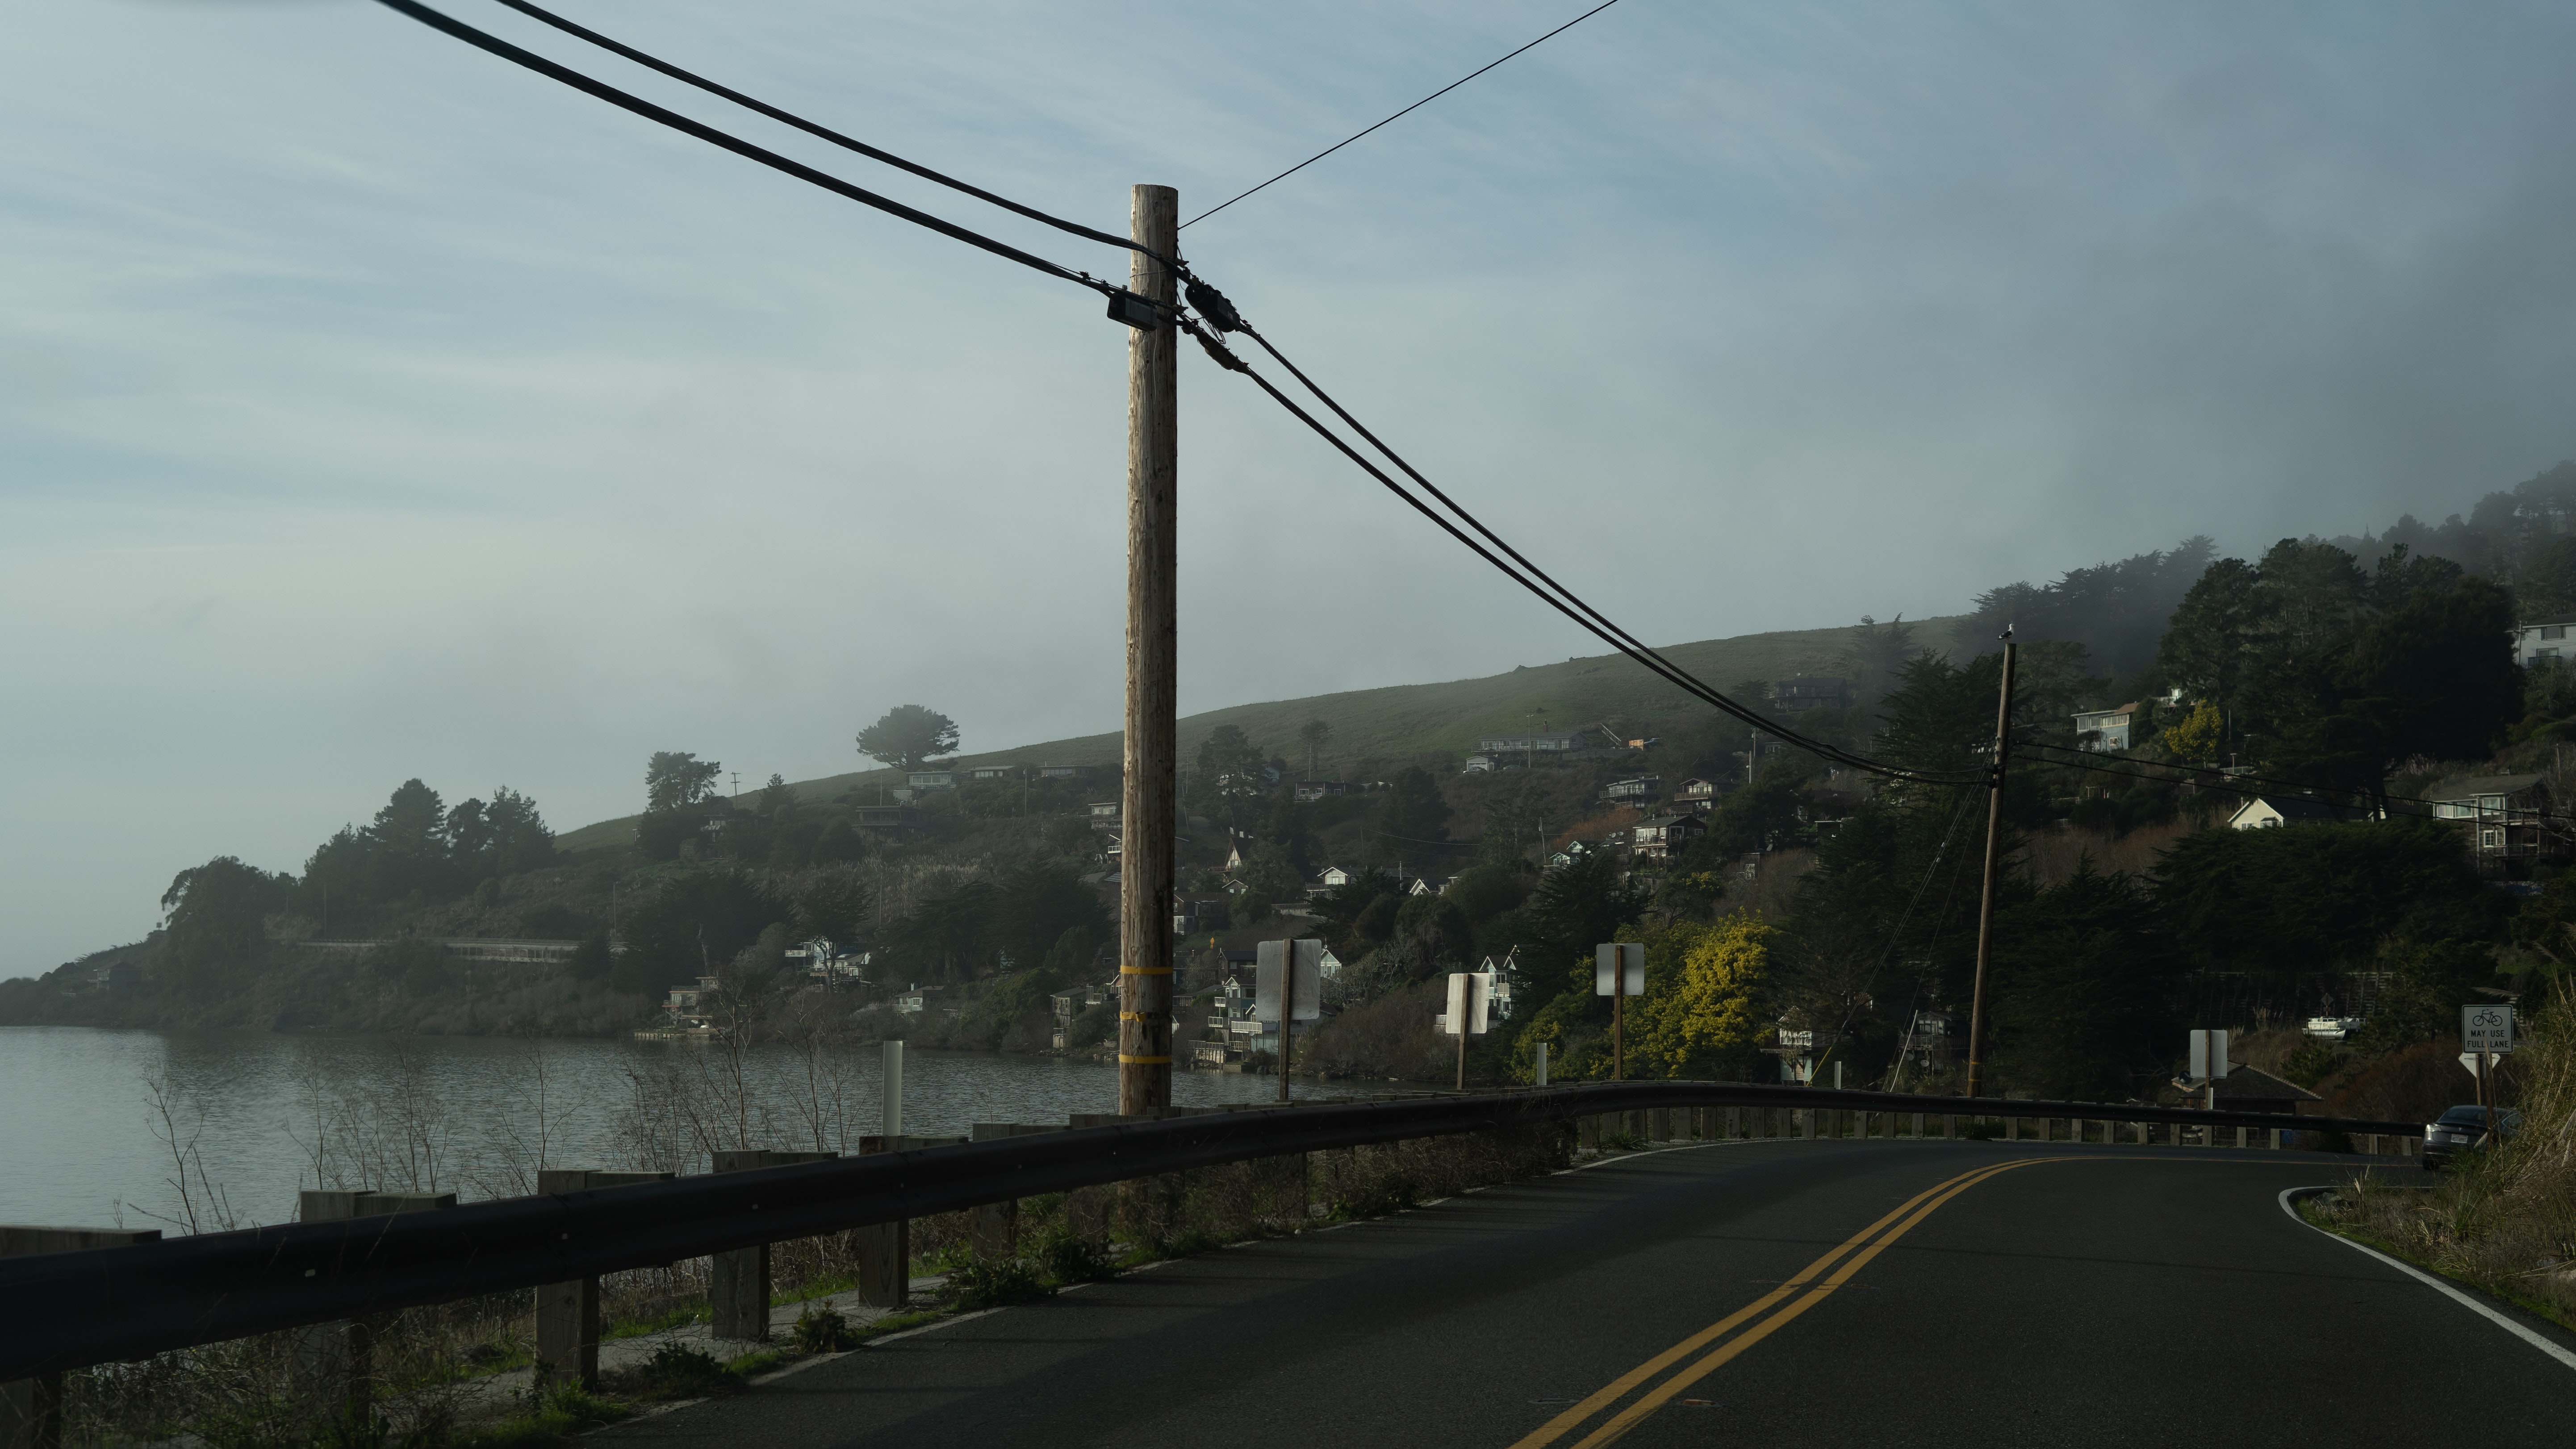utility_pole: (1067, 147, 1256, 435)
